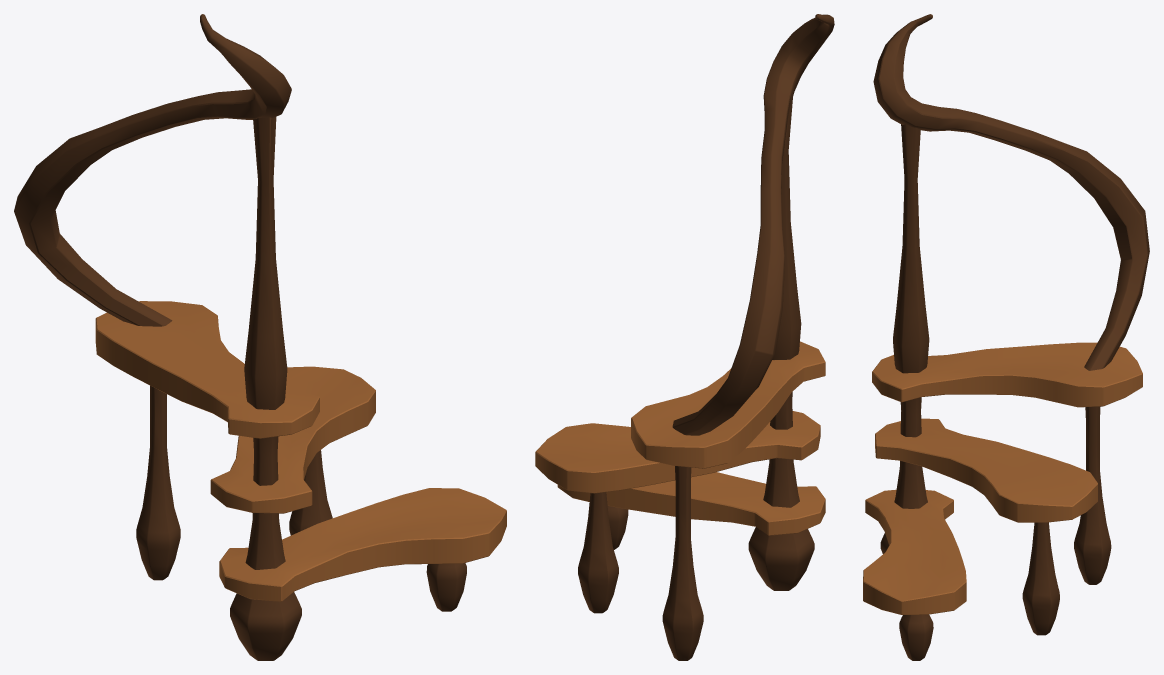
The model's file is Ladder.fbx.
The picture shows the model from 3 angles, left to right: view 1: azimuth 30°, elevation 25°; view 2: azimuth 150°, elevation 25°; view 3: azimuth 270°, elevation 25°; orthographic projection. The views are drawn at different scales.
Parts seen in each view (by area): view 1: Ladder; view 2: Ladder; view 3: Ladder.
Part boxes in pixels (left/top/right/bottom): Ladder: left=14, top=14, right=506, bottom=660; Ladder: left=535, top=14, right=834, bottom=660; Ladder: left=863, top=14, right=1149, bottom=660.
Bounding box in the file's own units: 1.53 × 2.65 × 1.26.
